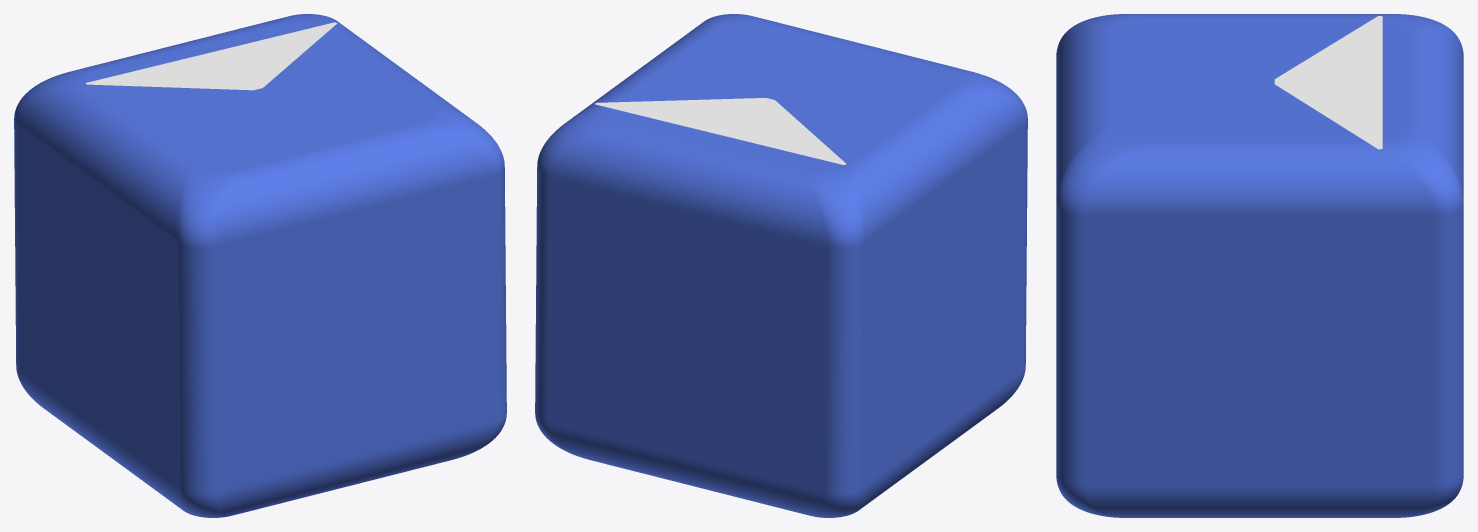
The model's file is RedCubeWithTri.fbx.
3 views of the same model, side by side, from view 1: azimuth 30°, elevation 25°; view 2: azimuth 150°, elevation 25°; view 3: azimuth 270°, elevation 25° (orthographic). The views are drawn at different scales.
Visible parts, largest first — view 1: Cube.001; view 2: Cube.001; view 3: Cube.001.
Boxes of the visible parts, x1,y1,x2,y2 form: Cube.001: (14, 14, 506, 517); Cube.001: (535, 14, 1027, 517); Cube.001: (1056, 14, 1463, 517).
Bounding box in the file's own units: 201 × 202 × 200.
